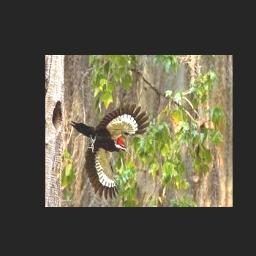Woodpecker: (70, 103, 152, 198)
